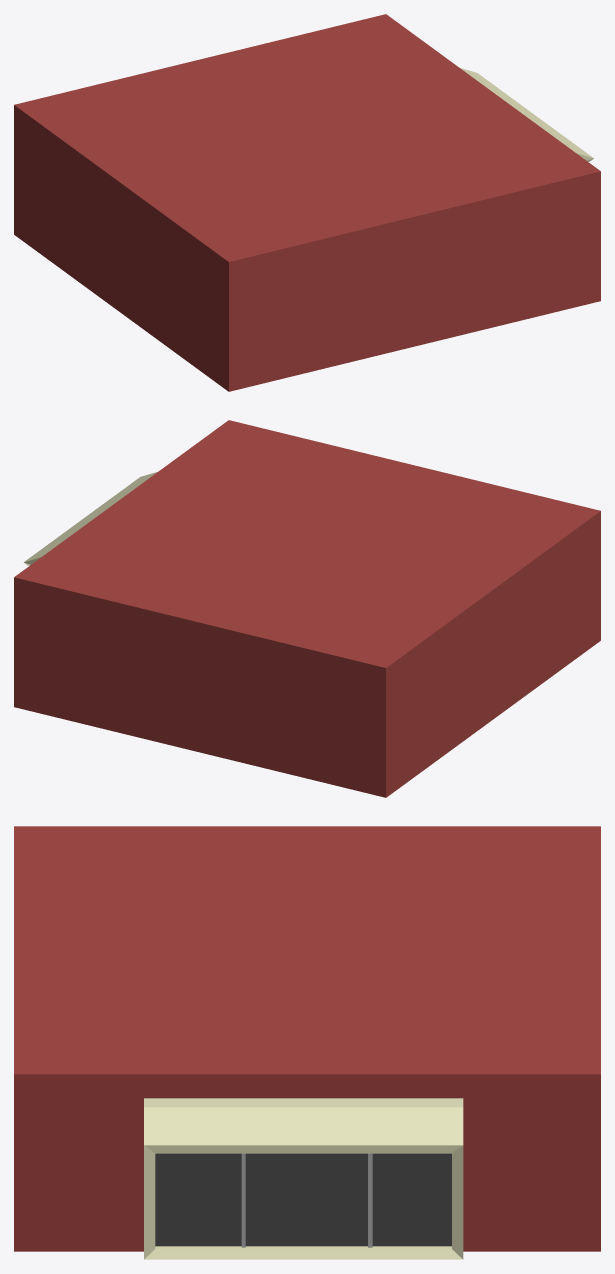
The model's file is Building1 bot.fbx.
The picture shows the model from 3 angles, top to bottom: view 1: azimuth 30°, elevation 25°; view 2: azimuth 150°, elevation 25°; view 3: azimuth 270°, elevation 25°; orthographic projection. The views are drawn at different scales.
Parts seen in each view (by area): view 1: polySurface175; view 2: polySurface175; view 3: polySurface175.
Boxes of the visible parts, x1,y1,x2,y2 form: polySurface175: (14, 14, 600, 391); polySurface175: (14, 420, 600, 797); polySurface175: (14, 826, 600, 1259).
Size of the model in its own units: 107 by 32 by 96.
